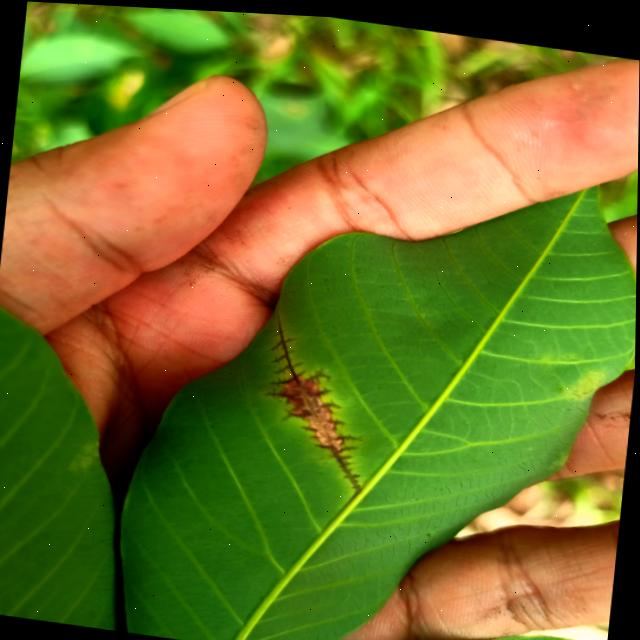Corynespora: (257, 306, 380, 490)
